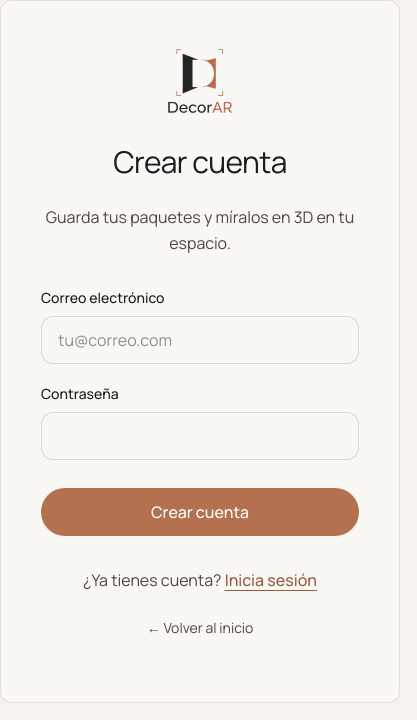
AuthForm › tras registrarse muestra la vista para confirmar el correo con el foco en su título
In the field labelled "Correo electrónico": (200, 340) [41,316,359,364], type "ana@correo.com"
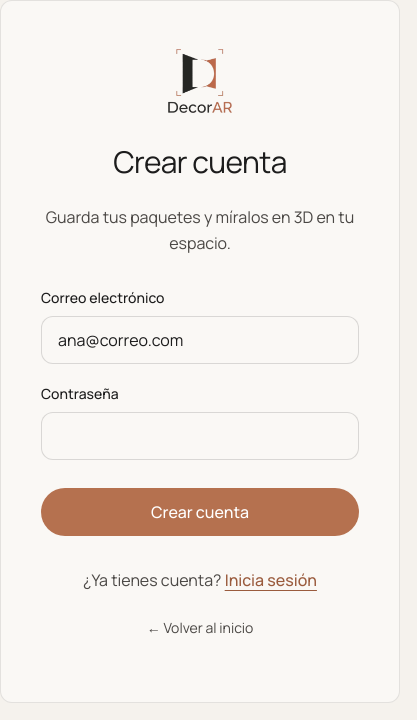
In the password field labelled "Contraseña": (200, 436) [41,412,359,460], type "secreta-123"
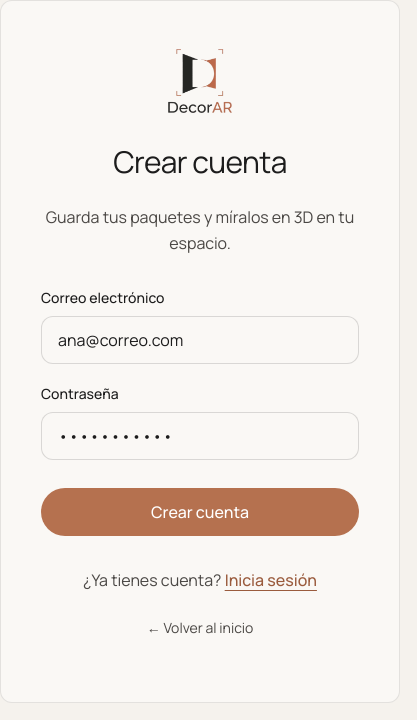
Click the button "Crear cuenta": (200, 512) [41,488,359,536]
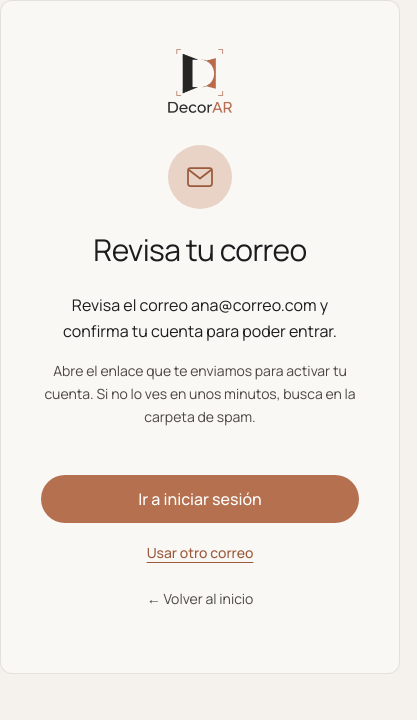
Check: the message shows "ana@correo.com", box [63,294,337,342]
Check: the label labelled "Contraseña" is gone
